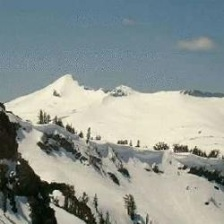neutral: (3, 17, 224, 223)
